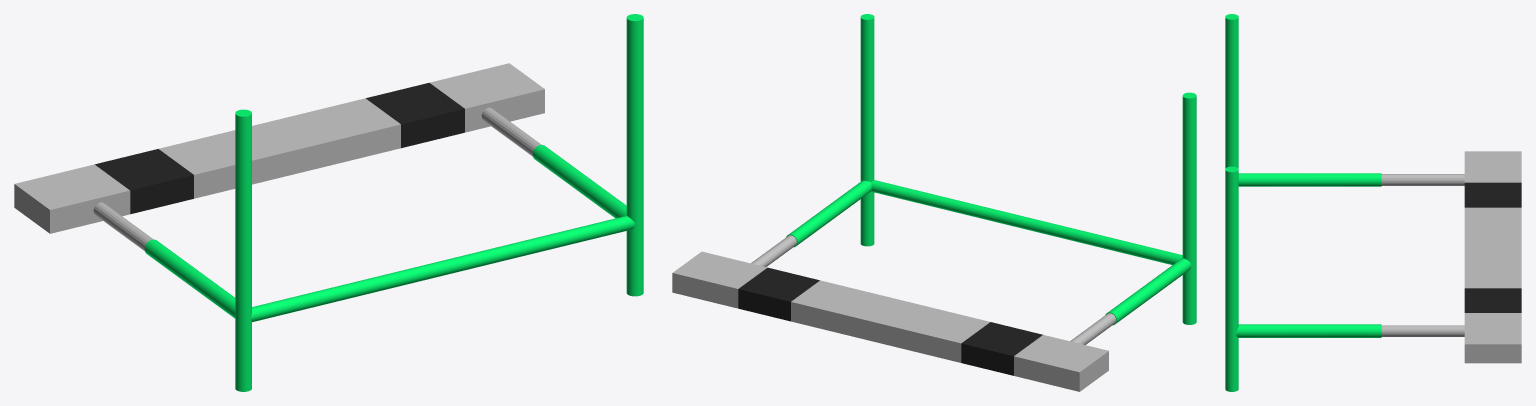
Rendered from Hurdle.fbx.
The picture shows the model from 3 angles, left to right: view 1: azimuth 30°, elevation 25°; view 2: azimuth 150°, elevation 25°; view 3: azimuth 270°, elevation 25°; orthographic projection. The views are drawn at different scales.
Parts seen in each view (by area): view 1: imagetostl_mesh5, imagetostl_mesh2, imagetostl_mesh0, imagetostl_mesh1, imagetostl_mesh4, imagetostl_mesh3; view 2: imagetostl_mesh5, imagetostl_mesh2, imagetostl_mesh1, imagetostl_mesh0, imagetostl_mesh3, imagetostl_mesh4; view 3: imagetostl_mesh5, imagetostl_mesh0, imagetostl_mesh3, imagetostl_mesh4, imagetostl_mesh1.
Part boxes in pixels (bbox=[...]): imagetostl_mesh5: bbox=[14, 63, 544, 233]; imagetostl_mesh2: bbox=[251, 215, 634, 322]; imagetostl_mesh0: bbox=[626, 14, 643, 296]; imagetostl_mesh1: bbox=[235, 109, 251, 391]; imagetostl_mesh4: bbox=[93, 202, 235, 318]; imagetostl_mesh3: bbox=[481, 107, 626, 218]; imagetostl_mesh5: bbox=[672, 251, 1108, 391]; imagetostl_mesh2: bbox=[871, 180, 1182, 264]; imagetostl_mesh1: bbox=[1182, 92, 1196, 324]; imagetostl_mesh0: bbox=[860, 14, 874, 246]; imagetostl_mesh3: bbox=[751, 180, 871, 266]; imagetostl_mesh4: bbox=[1070, 258, 1191, 344]; imagetostl_mesh5: bbox=[1464, 151, 1521, 363]; imagetostl_mesh0: bbox=[1225, 166, 1238, 391]; imagetostl_mesh3: bbox=[1236, 324, 1464, 337]; imagetostl_mesh4: bbox=[1238, 173, 1464, 186]; imagetostl_mesh1: bbox=[1225, 14, 1238, 168].
Size of the model in its own units: 6.99e+07 by 3.71e+07 by 4.54e+07.
